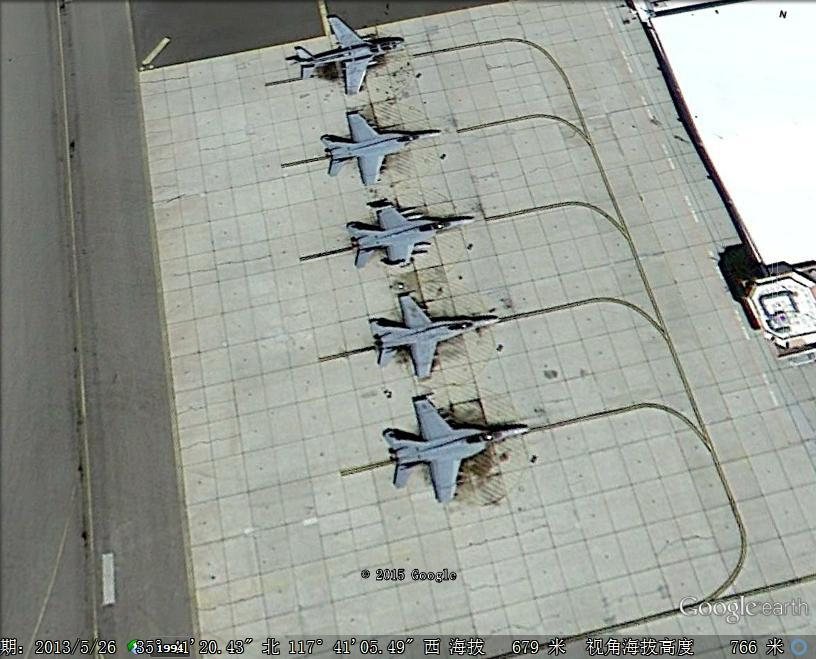F/A-18: (375, 398, 532, 502), (362, 294, 498, 380), (343, 200, 473, 272), (320, 112, 438, 189)
plane: (289, 14, 406, 101)
